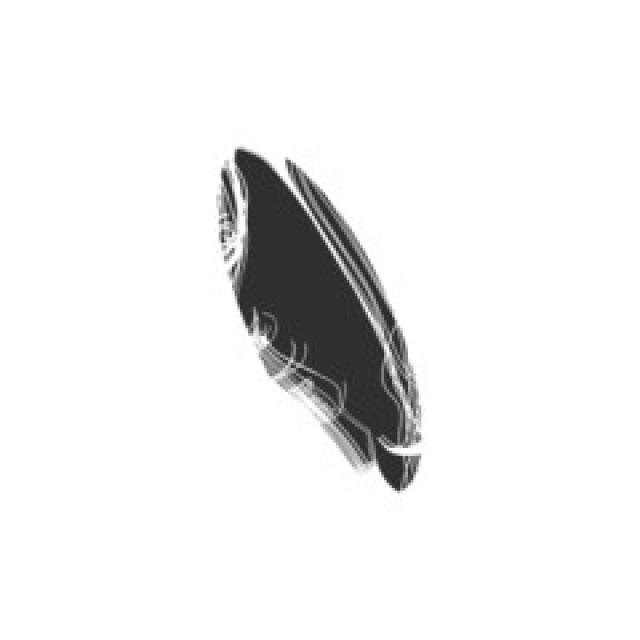Hole: (219, 148, 422, 492)
